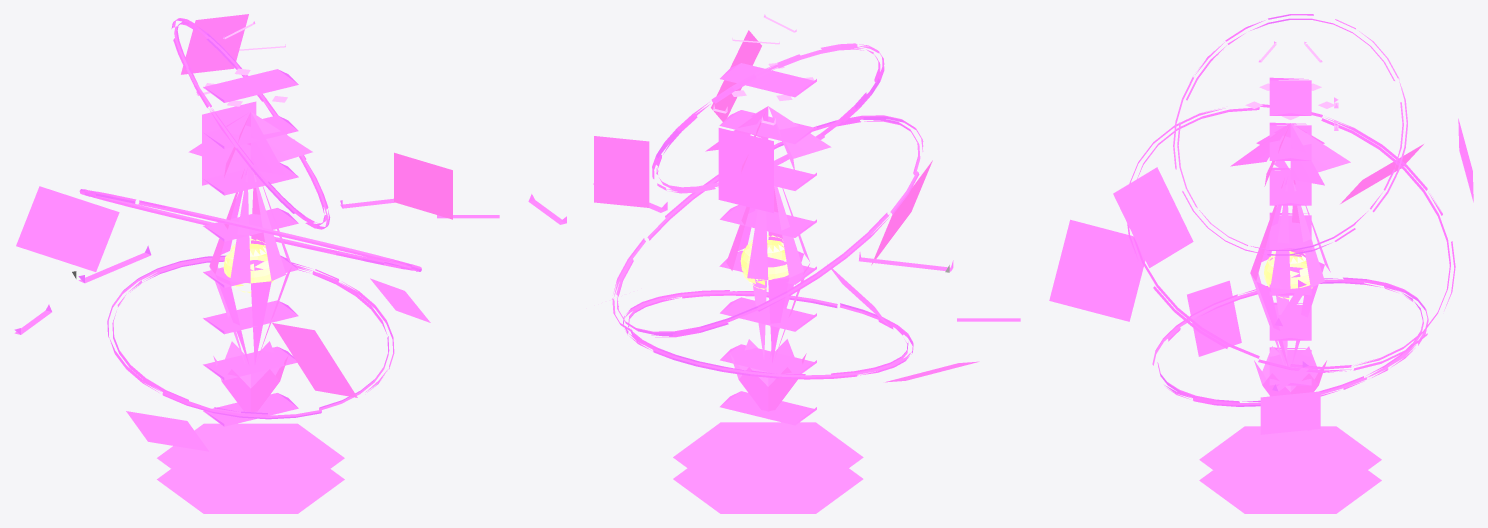
The model's file is system_prompt_boss_lod1.glb.
3 views of the same model, side by side, from view 1: azimuth 30°, elevation 25°; view 2: azimuth 150°, elevation 25°; view 3: azimuth 270°, elevation 25° (orthographic). The views are drawn at different scales.
Parts seen in each view (by area): view 1: BasePlatform, CentralPrism, TextPage_1, RuneRing_0, RuneRing_1, TextPage_2, TextPage_5, TextPage_4, RuneRing_2, TextPage_3, FaceScreen, InstructionLine_7 (+9 smaller); view 2: BasePlatform, CentralPrism, FaceScreen, TextPage_4, RuneRing_1, RuneRing_0, RuneRing_2, InstructionLine_7, InstructionLine_1, InstructionLine_0, InstructionLine_6, InstructionLine_2 (+6 smaller); view 3: BasePlatform, CentralPrism, TextPage_5, TextPage_2, RuneRing_1, RuneRing_0, TextPage_3, RuneRing_2, TextPage_0, InstructionLine_7, InstructionLine_5, InstructionLine_1 (+6 smaller).
Part boxes in pixels (x1,y1,x2,y2): BasePlatform: [157, 423, 344, 513]; CentralPrism: [188, 111, 312, 412]; TextPage_1: [16, 186, 119, 271]; RuneRing_0: [107, 255, 394, 419]; RuneRing_1: [79, 189, 421, 271]; TextPage_2: [394, 152, 452, 219]; TextPage_5: [272, 323, 357, 397]; TextPage_4: [181, 14, 248, 74]; RuneRing_2: [171, 18, 330, 229]; TextPage_3: [126, 411, 208, 451]; FaceScreen: [202, 101, 256, 185]; InstructionLine_7: [203, 69, 298, 102]; BasePlatform: [673, 422, 863, 513]; CentralPrism: [705, 106, 831, 411]; FaceScreen: [718, 128, 773, 213]; TextPage_4: [594, 136, 649, 207]; RuneRing_1: [612, 115, 923, 337]; RuneRing_0: [623, 290, 913, 379]; RuneRing_2: [652, 43, 884, 193]; InstructionLine_7: [720, 63, 816, 97]; InstructionLine_1: [720, 344, 816, 374]; InstructionLine_0: [720, 391, 816, 425]; InstructionLine_6: [719, 110, 816, 144]; InstructionLine_2: [720, 297, 816, 331]; BasePlatform: [1199, 426, 1381, 513]; CentralPrism: [1230, 123, 1350, 396]; TextPage_5: [1049, 219, 1145, 321]; TextPage_2: [1113, 167, 1193, 267]; RuneRing_1: [1127, 104, 1455, 372]; RuneRing_0: [1152, 277, 1428, 406]; TextPage_3: [1187, 280, 1241, 356]; RuneRing_2: [1173, 14, 1407, 255]; TextPage_0: [1260, 391, 1320, 434]; InstructionLine_7: [1269, 77, 1311, 115]; InstructionLine_5: [1269, 167, 1311, 205]; InstructionLine_1: [1269, 347, 1311, 385].
Size of the model in its own units: 7.14 by 6.33 by 5.57.
